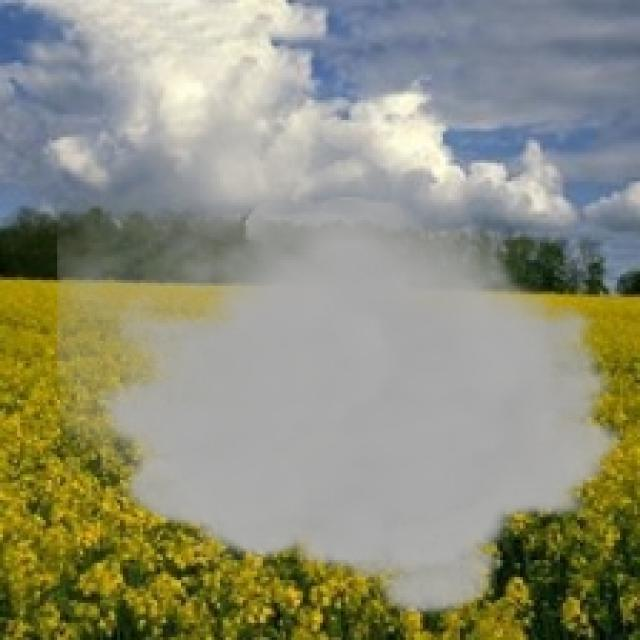Smoke: (57, 80, 626, 620)
